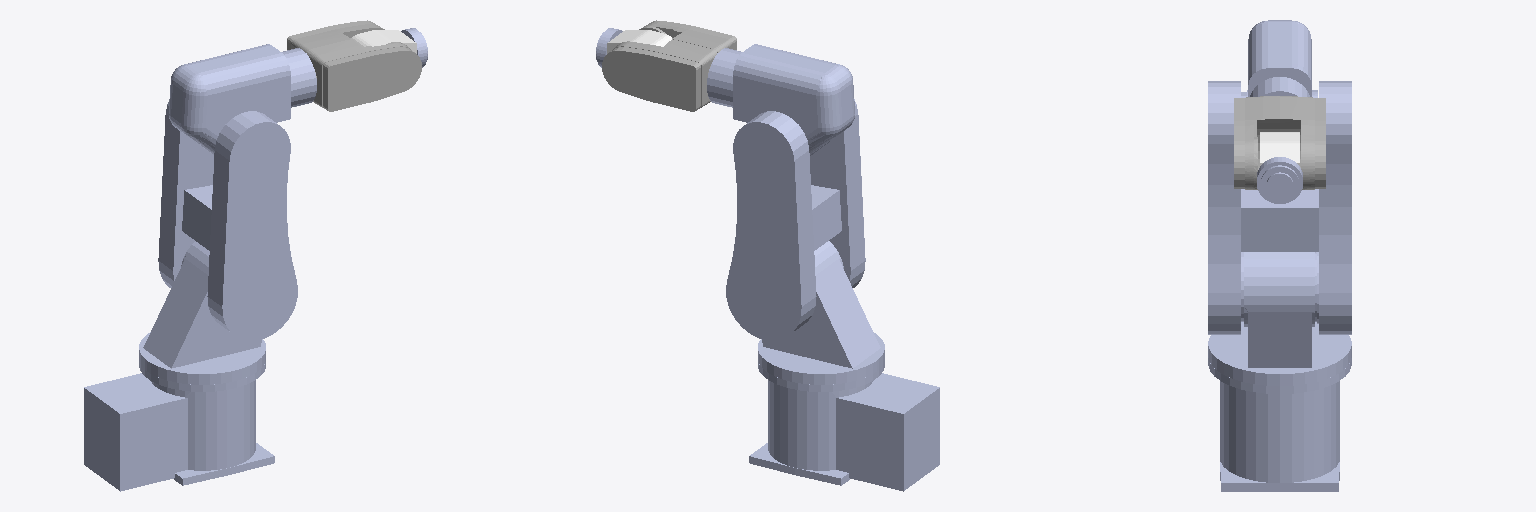
robot.urdf — efort_description:
<robot
  name="efort_description">
  <link name="dummy_link"></link>
  <joint name="joint_0" type="fixed">
    <parent link="dummy_link"/>
    <child link="base_link"/>
    <origin rpy="0 0 0" xyz="0 0 0"/>
  </joint>
  <link
    name="base_link">
    <inertial>
      <origin
        xyz="-0.0409348834836866 5.81724498287163E-17 0.0871107778963886"
        rpy="0 0 0" />
      <mass
        value="6.87266141070566" />
      <inertia
        ixx="0.0313669036407799"
        ixy="1.04977328311514E-16"
        ixz="0.00312157290391517"
        iyy="0.0585028447746046"
        iyz="-3.34322101516448E-17"
        izz="0.0536016136829563" />
    </inertial>
    <visual>
      <origin
        xyz="0 0 0"
        rpy="0 0 0" />
      <geometry>
        <mesh
          filename="package://efort_description/meshes/base_link.STL" />
      </geometry>
      <material
        name="">
        <color
          rgba="0.792156862745098 0.819607843137255 0.933333333333333 1" />
      </material>
    </visual>
    <collision>
      <origin
        xyz="0 0 0"
        rpy="0 0 0" />
      <geometry>
        <mesh
          filename="package://efort_description/meshes/base_link.STL" />
      </geometry>
    </collision>
  </link>
  <link
    name="link_1">
    <inertial>
      <origin
        xyz="0.0235426655587023 -0.000575626480178959 0.0827164949716509"
        rpy="0 0 0" />
      <mass
        value="3.30107386305461" />
      <inertia
        ixx="0.0156840898967947"
        ixy="-5.02715186795219E-05"
        ixz="0.00370191919239212"
        iyy="0.0190640369026902"
        iyz="-0.000108844399448207"
        izz="0.0122287954475827" />
    </inertial>
    <visual>
      <origin
        xyz="0 0 0"
        rpy="0 0 0" />
      <geometry>
        <mesh
          filename="package://efort_description/meshes/link_1.STL" />
      </geometry>
      <material
        name="">
        <color
          rgba="0.792156862745098 0.819607843137255 0.933333333333333 1" />
      </material>
    </visual>
    <collision>
      <origin
        xyz="0 0 0"
        rpy="0 0 0" />
      <geometry>
        <mesh
          filename="package://efort_description/meshes/link_1.STL" />
      </geometry>
    </collision>
  </link>
  <joint
    name="joint_1"
    type="revolute">
    <origin
      xyz="0 0 0.1815"
      rpy="-3.1579E-17 -7.9306E-17 -2.446E-16" />
    <parent
      link="base_link" />
    <child
      link="link_1" />
    <axis
      xyz="0 0 1" />
    <limit
      lower="-2.915"
      upper="2.915"
      effort="0"
      velocity="0" />
  </joint>
  <link
    name="link_2">
    <inertial>
      <origin
        xyz="0.11946545795155 0.00418067503015646 0.000132410986333669"
        rpy="0 0 0" />
      <mass
        value="5.66418816925894" />
      <inertia
        ixx="0.0420072797046599"
        ixy="0.000187057702251965"
        ixz="0.000602757828853935"
        iyy="0.096526192549623"
        iyz="-3.1355093756289E-06"
        izz="0.0681190682039788" />
    </inertial>
    <visual>
      <origin
        xyz="0 0 0"
        rpy="0 0 0" />
      <geometry>
        <mesh
          filename="package://efort_description/meshes/link_2.STL" />
      </geometry>
      <material
        name="">
        <color
          rgba="0.792156862745098 0.819607843137255 0.933333333333333 1" />
      </material>
    </visual>
    <collision>
      <origin
        xyz="0 0 0"
        rpy="0 0 0" />
      <geometry>
        <mesh
          filename="package://efort_description/meshes/link_2.STL" />
      </geometry>
    </collision>
  </link>
  <joint
    name="joint_2"
    type="revolute">
    <origin
      xyz="0.05 0 0.14"
      rpy="1.5708 -1.5708 0" />
    <parent
      link="link_1" />
    <child
      link="link_2" />
    <axis
      xyz="0 0 1" />
    <limit
      lower="-2.269"
      upper="1.571"
      effort="0"
      velocity="0" />
  </joint>
  <link
    name="link_3">
    <inertial>
      <origin
        xyz="0.0689126182685479 -0.0180608732958353 -0.000210161459564274"
        rpy="0 0 0" />
      <mass
        value="2.3749746553772" />
      <inertia
        ixx="0.0124152997750259"
        ixy="-0.000234812353660264"
        ixz="3.44073018993852E-05"
        iyy="0.00474437835451971"
        iyz="-8.9572649241132E-06"
        izz="0.0138952612877989" />
    </inertial>
    <visual>
      <origin
        xyz="0 0 0"
        rpy="0 0 0" />
      <geometry>
        <mesh
          filename="package://efort_description/meshes/link_3.STL" />
      </geometry>
      <material
        name="">
        <color
          rgba="0.792156862745098 0.819607843137255 0.933333333333333 1" />
      </material>
    </visual>
    <collision>
      <origin
        xyz="0 0 0"
        rpy="0 0 0" />
      <geometry>
        <mesh
          filename="package://efort_description/meshes/link_3.STL" />
      </geometry>
    </collision>
  </link>
  <joint
    name="joint_3"
    type="revolute">
    <origin
      xyz="0.27 0 0"
      rpy="3.7255E-32 -4.4742E-16 -2.0817E-16" />
    <parent
      link="link_2" />
    <child
      link="link_3" />
    <axis
      xyz="0 0 1" />
    <limit
      lower="-1.309"
      upper="1.833"
      effort="0"
      velocity="0" />
  </joint>
  <link
    name="link_4">
    <inertial>
      <origin
        xyz="-5.26226862640478E-07 0.00024724190038449 -0.074929998229337"
        rpy="0 0 0" />
      <mass
        value="1.57891879485757" />
      <inertia
        ixx="0.00708604457985196"
        ixy="-2.63762869617243E-08"
        ixz="-5.47864365917456E-08"
        iyy="0.00494844971433659"
        iyz="2.10513254753591E-05"
        izz="0.00408041413848916" />
    </inertial>
    <visual>
      <origin
        xyz="0 0 0"
        rpy="0 0 0" />
      <geometry>
        <mesh
          filename="package://efort_description/meshes/link_4.STL" />
      </geometry>
      <material
        name="">
        <color
          rgba="0.752941176470588 0.752941176470588 0.752941176470588 1" />
      </material>
    </visual>
    <collision>
      <origin
        xyz="0 0 0"
        rpy="0 0 0" />
      <geometry>
        <mesh
          filename="package://efort_description/meshes/link_4.STL" />
      </geometry>
    </collision>
  </link>
  <joint
    name="joint_4"
    type="continuous">
    <origin
      xyz="0.07 -0.299 0"
      rpy="-1.5708 -2.6129E-16 -3.1416" />
    <parent
      link="link_3" />
    <child
      link="link_4" />
    <axis
      xyz="0 0 1" />
    <limit
      lower="-3.142"
      upper="3.142"
      effort="0"
      velocity="0" />
  </joint>
  <link
    name="link_5">
    <inertial>
      <origin
        xyz="0 -0.000183640639932092 7.24280138444819E-17"
        rpy="0 0 0" />
      <mass
        value="0.268007889474162" />
      <inertia
        ixx="0.00035328124873452"
        ixy="2.38919329368297E-19"
        ixz="-9.01159050174182E-21"
        iyy="0.000211009992076537"
        iyz="3.26637229076845E-20"
        izz="0.00040348650712656" />
    </inertial>
    <visual>
      <origin
        xyz="0 0 0"
        rpy="0 0 0" />
      <geometry>
        <mesh
          filename="package://efort_description/meshes/link_5.STL" />
      </geometry>
      <material
        name="">
        <color
          rgba="1 1 1 1" />
      </material>
    </visual>
    <collision>
      <origin
        xyz="0 0 0"
        rpy="0 0 0" />
      <geometry>
        <mesh
          filename="package://efort_description/meshes/link_5.STL" />
      </geometry>
    </collision>
  </link>
  <joint
    name="joint_5"
    type="revolute">
    <origin
      xyz="0 0 0"
      rpy="1.5708 -2.9596E-33 1.5296E-16" />
    <parent
      link="link_4" />
    <child
      link="link_5" />
    <axis
      xyz="0 0 1" />
    <limit
      lower="-1.919"
      upper="1.919"
      effort="0"
      velocity="0" />
  </joint>
  <link
    name="link_6">
     <visual>
      <origin
        xyz="0 0 0"
        rpy="0 0 0" />
      <geometry>
        <mesh
          filename="package://efort_description/meshes/link_6.STL" />
      </geometry>
      <material
        name="">
        <color
          rgba="0.792156862745098 0.819607843137255 0.933333333333333 1" />
      </material>
    </visual>
    <collision>
      <origin
        xyz="0 0 0"
        rpy="0 0 0" />
      <geometry>
        <mesh
          filename="package://efort_description/meshes/link_6.STL" />
      </geometry>
    </collision>
  </link>
  <joint
    name="joint_6"
    type="continuous">
    <origin
      xyz="0 0.0785 0"
      rpy="1.5708 6.4983E-17 3.1416" />
    <parent
      link="link_5" />
    <child
      link="link_6" />
    <axis
      xyz="0 0 1" />
  </joint>
</robot>

--- What the picture shows (computed from the rendered views, not written in the file) ---
Views: 3 orthographic renders of the robot side by side, from view 1: azimuth 30°, elevation 25°; view 2: azimuth 150°, elevation 25°; view 3: azimuth 270°, elevation 25°.
Model efort_description with 8 links and 7 joints (4 revolute, 2 continuous, 1 fixed), rooted at dummy_link, posed every joint at zero.
Visible links, largest first — view 1: link_2, base_link, link_3, link_1, link_4, link_5; view 2: link_2, base_link, link_3, link_1, link_4, link_5; view 3: link_2, base_link, link_1, link_4, link_3, link_6, link_5.
Link boxes in pixels (x1,y1,x2,y2): link_2: (158,99,297,340); base_link: (84,361,274,491); link_3: (169,44,316,155); link_1: (139,241,265,384); link_4: (287,20,421,111); link_5: (351,30,416,53); link_2: (726,99,865,340); base_link: (749,361,939,491); link_3: (707,44,854,155); link_1: (758,241,884,384); link_4: (602,20,736,111); link_5: (607,30,671,53); link_2: (1208,81,1351,334); base_link: (1208,358,1351,491); link_1: (1208,252,1351,385); link_4: (1234,96,1325,189); link_3: (1247,20,1317,97); link_6: (1257,157,1302,203); link_5: (1260,132,1299,165).
Size in the robot's own frame: 0.6235 by 0.216 by 0.7235 metres.
Meshes: 7 distinct files referenced, 7 mesh visuals loaded (7 binary STL).